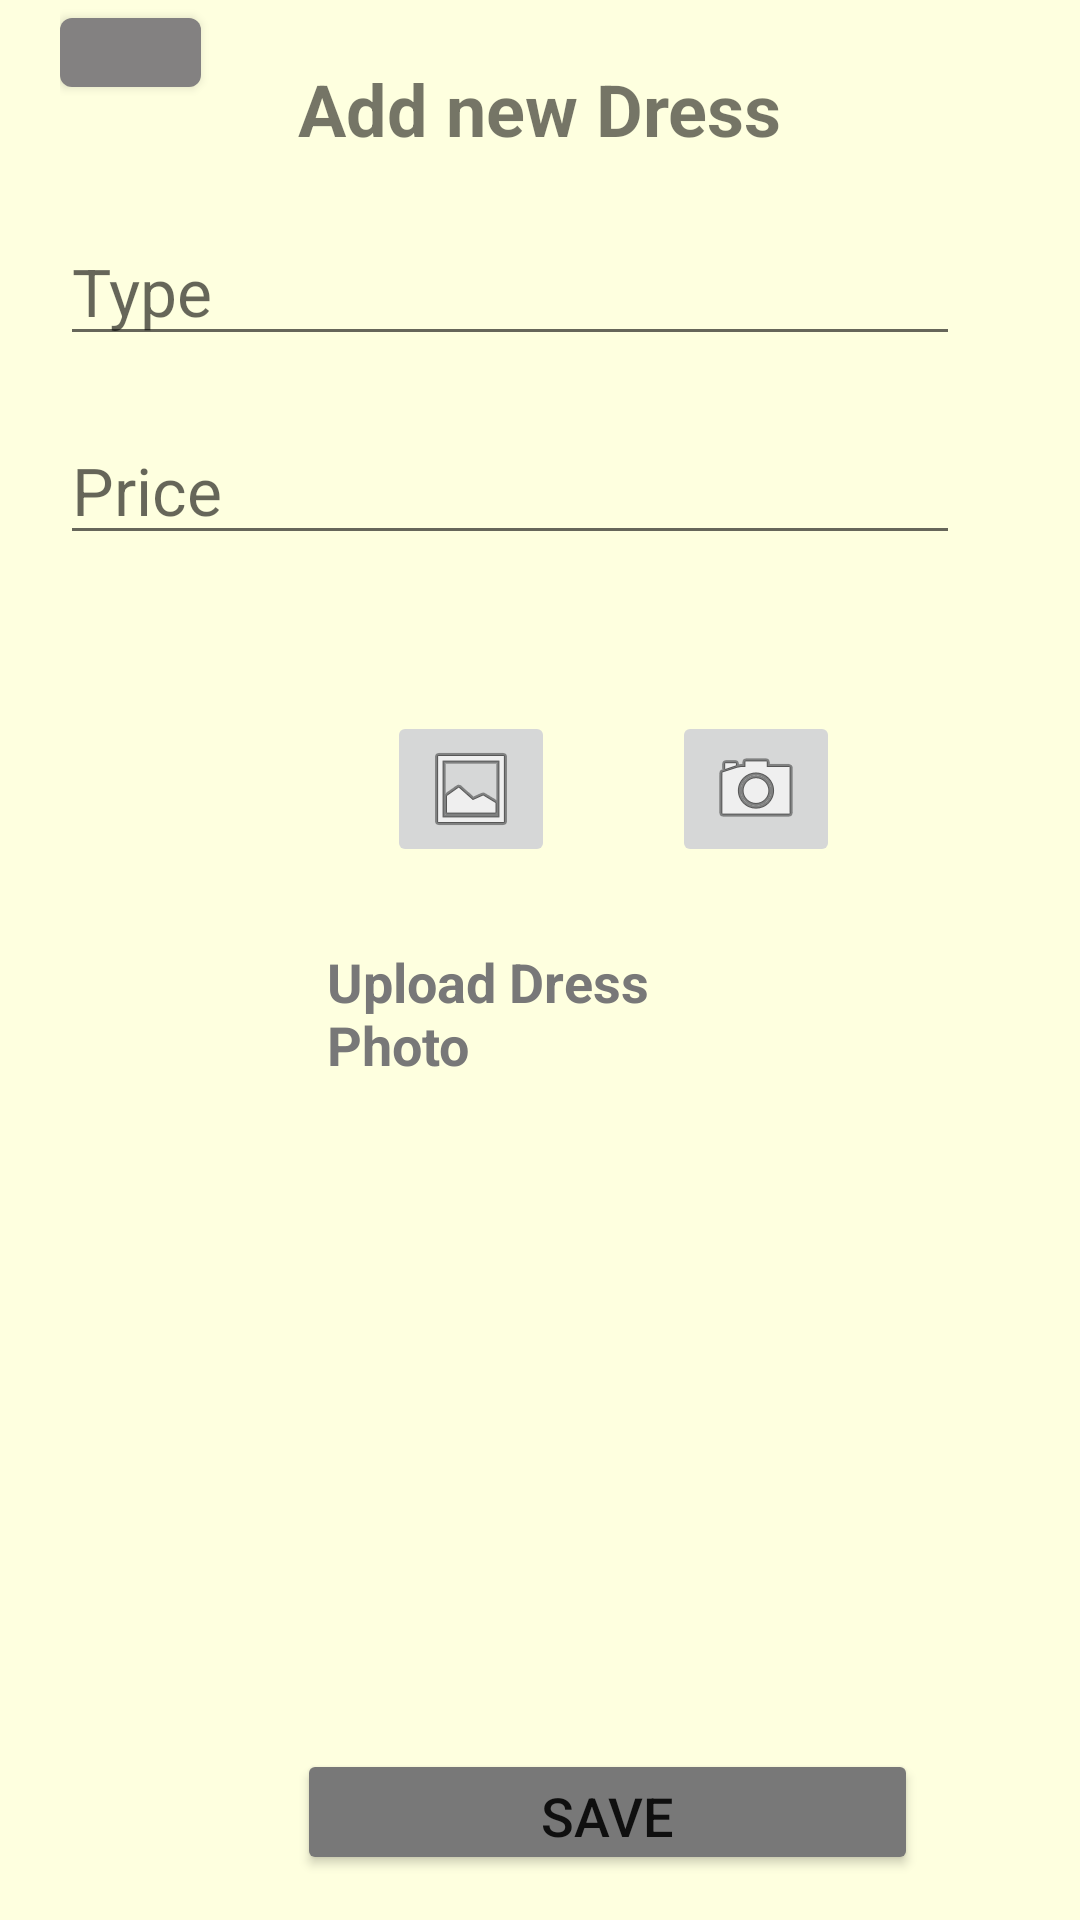

Locate icon controls on the screen. Image size 1080px x 1920px, boxes as (x1, y1, x2, y2).
camera: (684, 729, 828, 849)
gallery: (399, 729, 543, 849)
